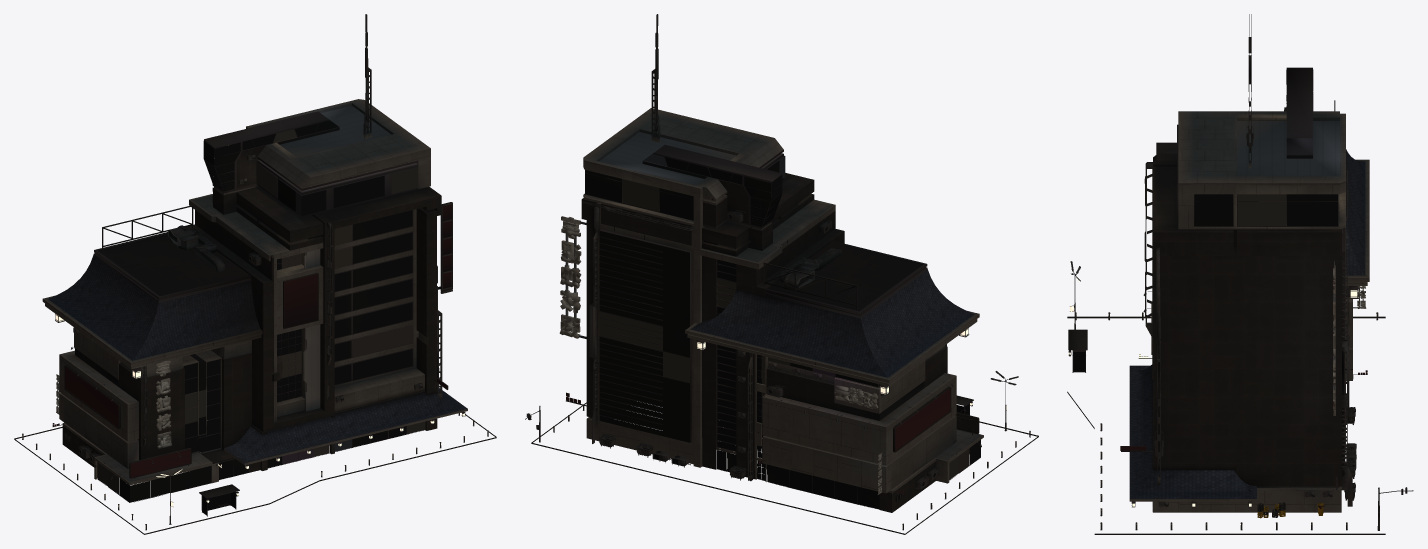
The model's file is bldgM.glb.
The picture shows the model from 3 angles, left to right: view 1: azimuth 30°, elevation 25°; view 2: azimuth 150°, elevation 25°; view 3: azimuth 270°, elevation 25°; orthographic projection. The views are drawn at different scales.
Parts seen in each view (by area): view 1: bldgM; view 2: bldgM; view 3: bldgM.
Part boxes in pixels (<box>): bldgM: <box>14,14,496,534</box>; bldgM: <box>525,14,1038,534</box>; bldgM: <box>1067,14,1413,534</box>.
Size of the model in its own units: 49 by 50.68 by 33.06.
12 materials, 9 textured.
